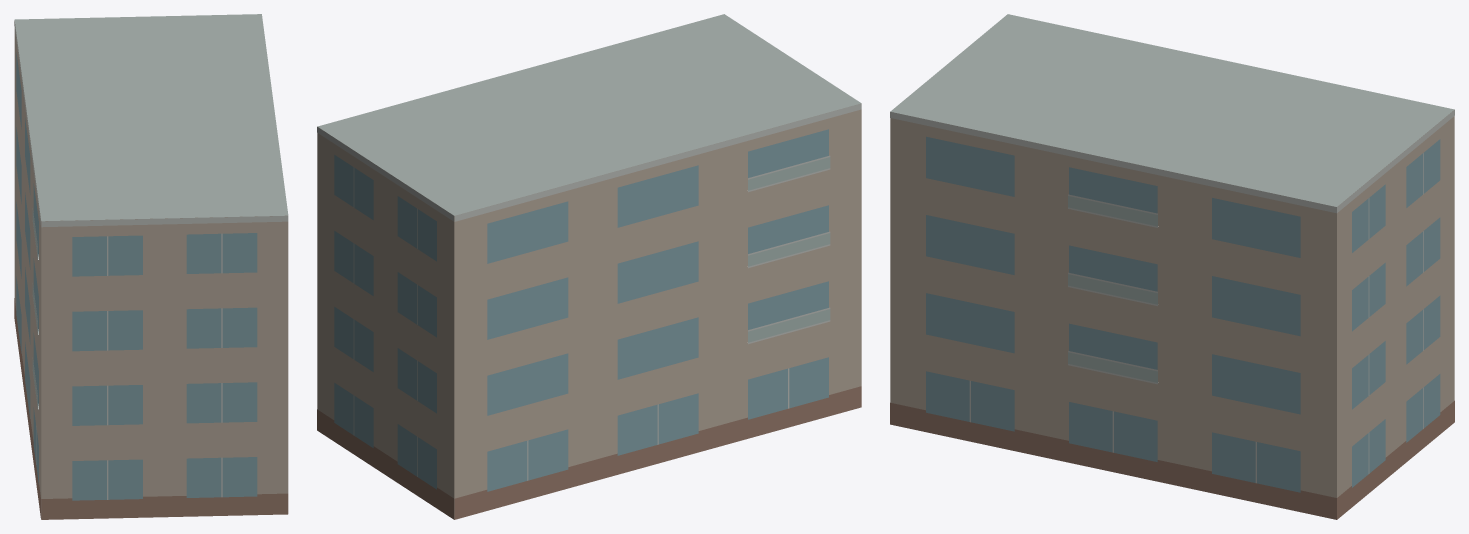
The model's file is survey-upis-32955143.glb.
3 views of the same model, side by side, from view 1: azimuth 30°, elevation 25°; view 2: azimuth 150°, elevation 25°; view 3: azimuth 270°, elevation 25° (orthographic). The views are drawn at different scales.
Visible parts, largest first — view 1: survey-upis-32955143.tmp; view 2: survey-upis-32955143.tmp; view 3: survey-upis-32955143.tmp.
Boxes of the visible parts, <box> form: survey-upis-32955143.tmp: <box>14,14,288,519</box>; survey-upis-32955143.tmp: <box>317,14,861,519</box>; survey-upis-32955143.tmp: <box>890,14,1454,519</box>.
Size of the model in its own units: 16.16 by 12.2 by 19.97.
